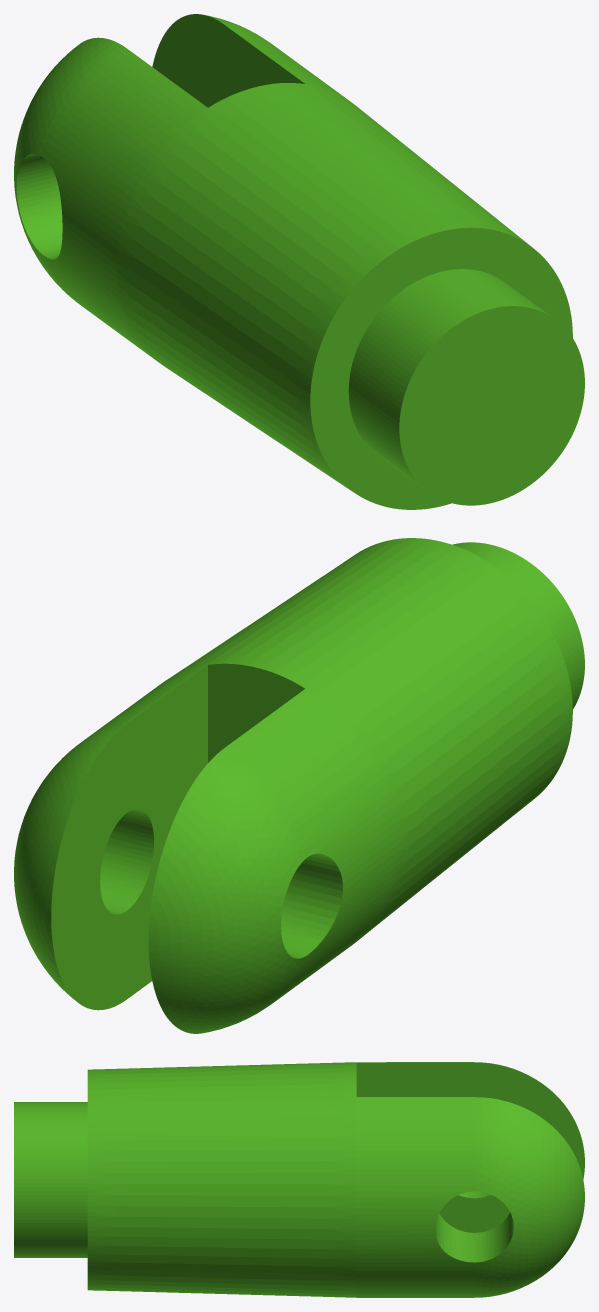
The picture shows the model from 3 angles, top to bottom: view 1: azimuth 30°, elevation 25°; view 2: azimuth 150°, elevation 25°; view 3: azimuth 270°, elevation 25°; orthographic projection. The views are drawn at different scales.
Visible parts, largest first — view 1: node; view 2: node; view 3: node.
Boxes of the visible parts, box(x1,y1,x2,y2) form: node: box(14, 14, 584, 509); node: box(14, 538, 584, 1033); node: box(14, 1062, 584, 1297).
Bounding box in the file's own units: 0.0657 × 0.0657 × 0.1591.
